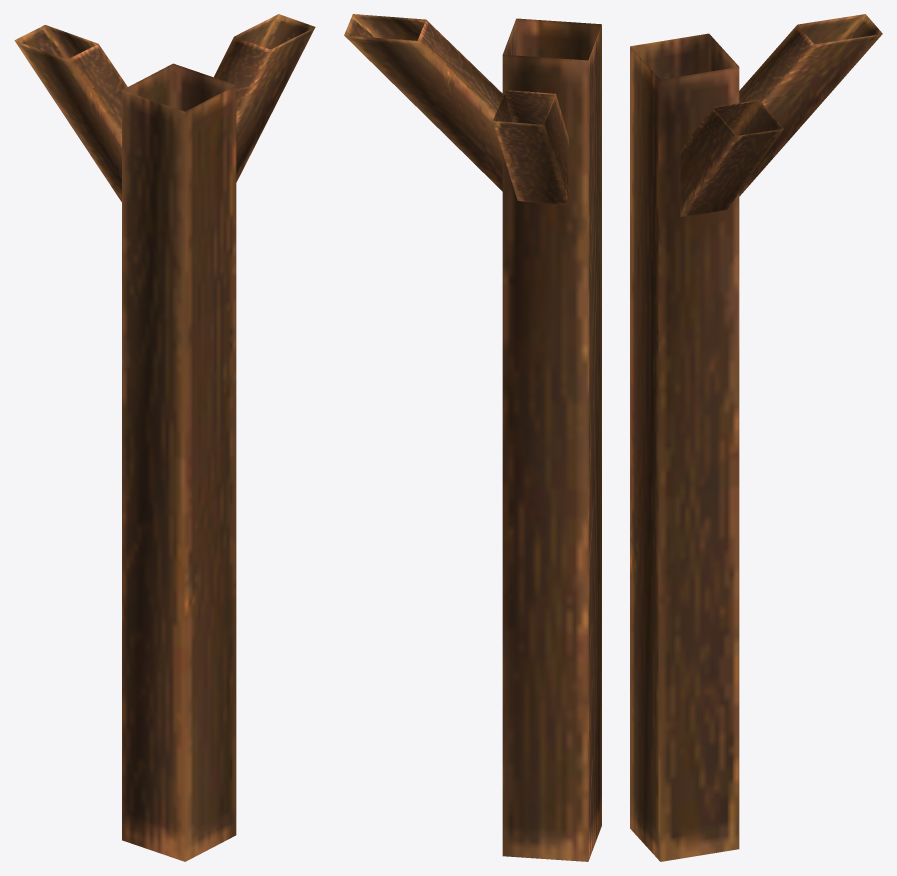
Rendered from SWORDLIGHT20_JAILPLATSUPPORT61.fbx.
3 views of the same model, side by side, from view 1: azimuth 30°, elevation 25°; view 2: azimuth 150°, elevation 25°; view 3: azimuth 270°, elevation 25° (orthographic). The views are drawn at different scales.
Parts seen in each view (by area): view 1: SWORDLIGHT20_JAILPLATSUPPORT61; view 2: SWORDLIGHT20_JAILPLATSUPPORT61; view 3: SWORDLIGHT20_JAILPLATSUPPORT61.
Boxes of the visible parts, x1,y1,x2,y2 form: SWORDLIGHT20_JAILPLATSUPPORT61: [14, 14, 315, 861]; SWORDLIGHT20_JAILPLATSUPPORT61: [344, 14, 601, 861]; SWORDLIGHT20_JAILPLATSUPPORT61: [630, 14, 882, 861].
Bounding box in the file's own units: 13630 × 40933 × 11943.
1 material, 1 textured.
